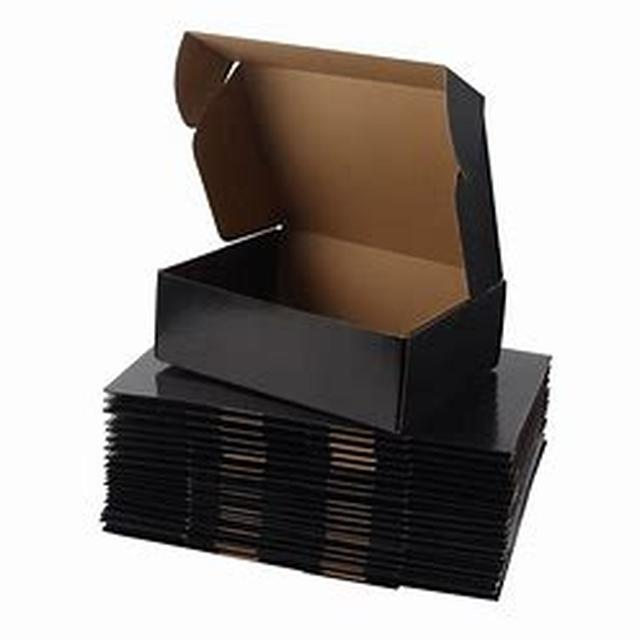box: (113, 39, 596, 463)
